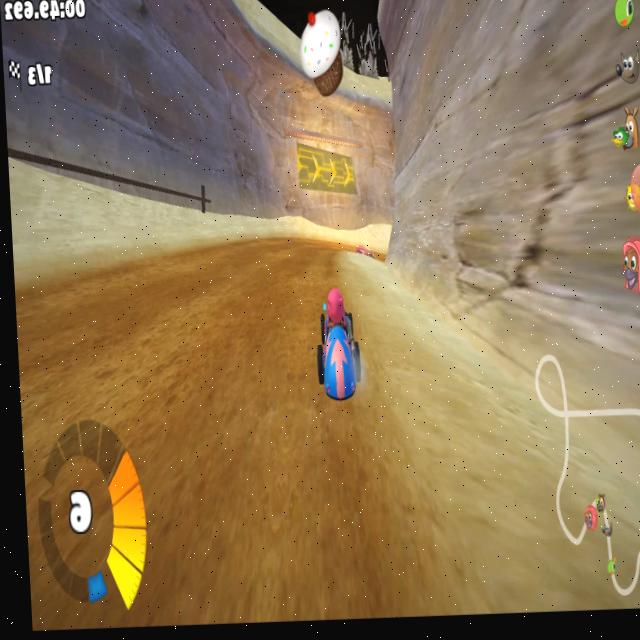player_kart: (310, 286, 364, 398)
track: (21, 395, 373, 640), (16, 294, 317, 434), (136, 240, 320, 293), (14, 267, 137, 305), (321, 241, 383, 258), (318, 251, 340, 282)
